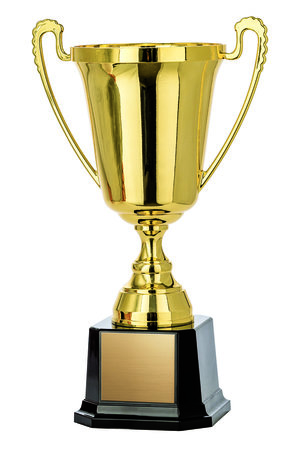trophy: (29, 13, 272, 434)
